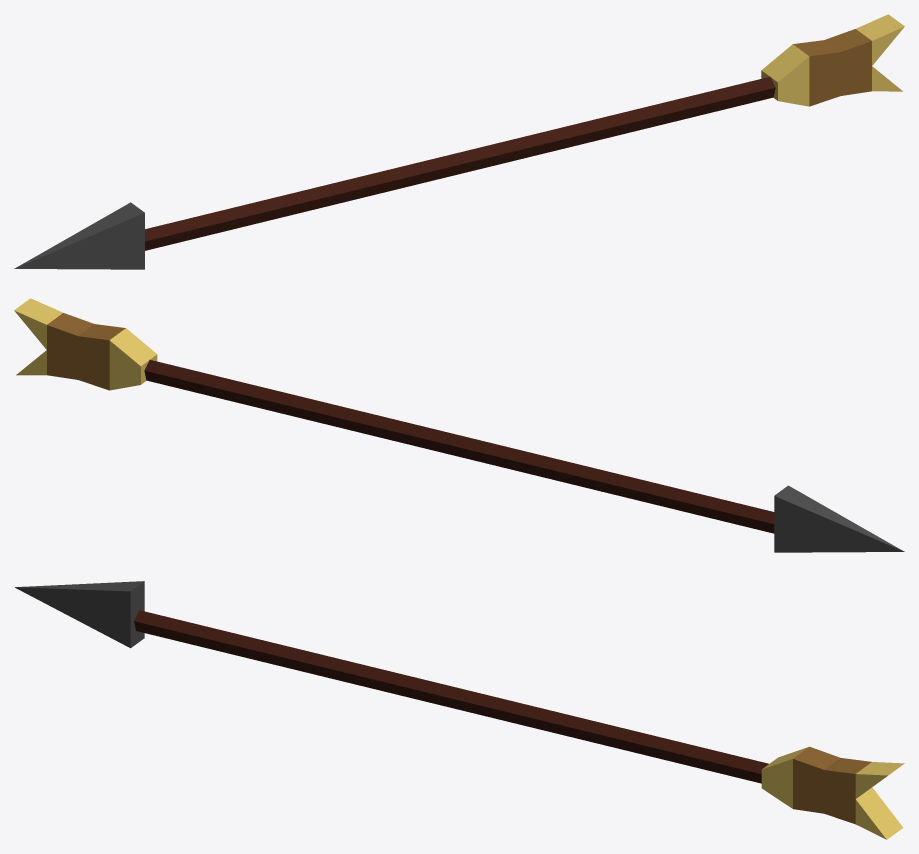
Rendered from Arrow.FBX.
3 renders of one model, top to bottom at view 1: azimuth 30°, elevation 25°; view 2: azimuth 150°, elevation 25°; view 3: azimuth 330°, elevation 25°, orthographic.
Parts seen in each view (by area): view 1: Arrow; view 2: Arrow; view 3: Arrow.
Boxes of the visible parts, x1,y1,x2,y2 form: Arrow: [14, 14, 904, 269]; Arrow: [14, 298, 904, 552]; Arrow: [15, 581, 904, 839].
Size of the model in its own units: 55.34 by 3.88 by 1.8.
